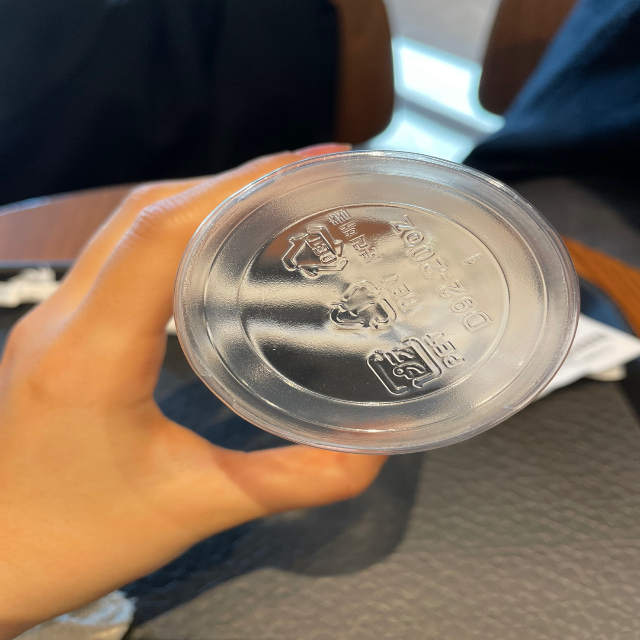pet: (277, 203, 384, 284), (322, 269, 426, 337), (364, 330, 465, 396)
